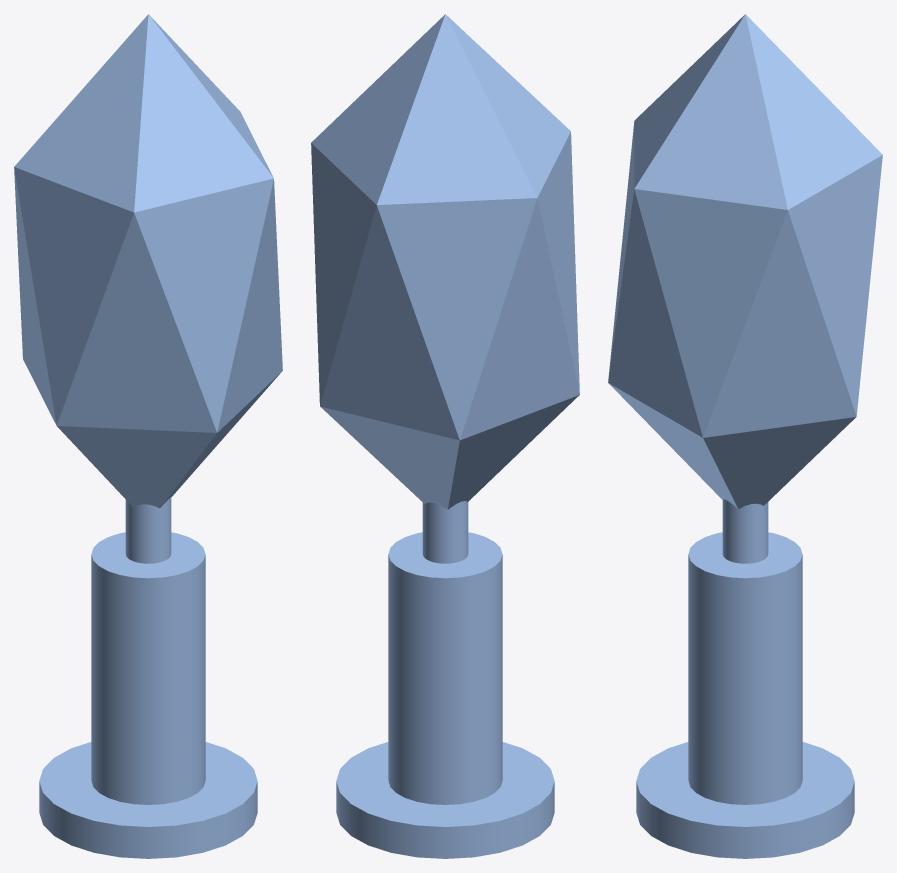
3 renders of one model, left to right at view 1: azimuth 30°, elevation 25°; view 2: azimuth 150°, elevation 25°; view 3: azimuth 270°, elevation 25°, orthographic.
Visible parts, largest first — view 1: instance_0, SketchUp.003, SketchUp.005, SketchUp.002; view 2: instance_0, SketchUp.003, SketchUp.005, SketchUp.002; view 3: instance_0, SketchUp.003, SketchUp.005, SketchUp.002.
Part boxes in pixels (box(x1,y1,x2,y2)): instance_0: box(14, 14, 282, 508); SketchUp.003: box(91, 532, 205, 804); SketchUp.005: box(39, 742, 257, 858); SketchUp.002: box(125, 497, 171, 563); instance_0: box(311, 14, 579, 509); SketchUp.003: box(388, 532, 502, 804); SketchUp.005: box(336, 742, 554, 858); SketchUp.002: box(422, 501, 468, 563); instance_0: box(608, 14, 882, 509); SketchUp.003: box(688, 532, 802, 804); SketchUp.005: box(636, 742, 854, 858); SketchUp.002: box(722, 499, 768, 563).
Size of the model in its own units: 532 by 1794 by 559.
